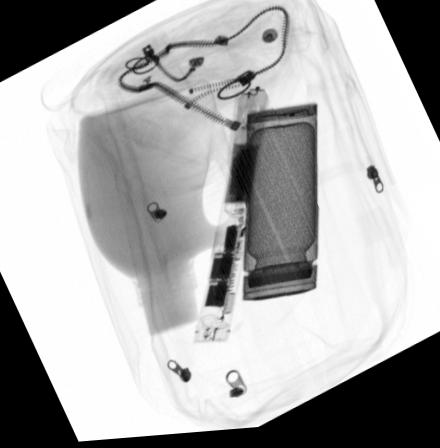Baton: (192, 88, 270, 347)
